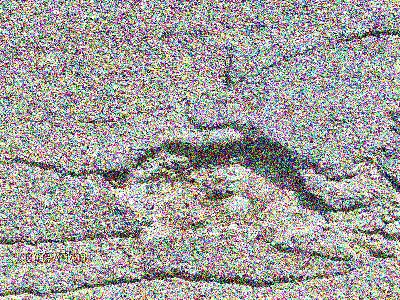pothole: (98, 130, 335, 241)
